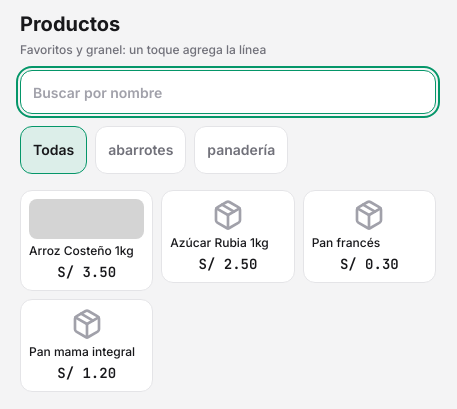
ProductCatalogScreen › matches names case-insensitively and shows the empty state without tearing the layout
Expected: the number of buttons with test id "product-tile" is 4, [20,190,153,291]; [161,190,295,283]; [303,190,436,283]; [20,299,153,392]
Type "PAN" into the search field named "Buscar producto" at [228, 92], box [20,70,436,114]
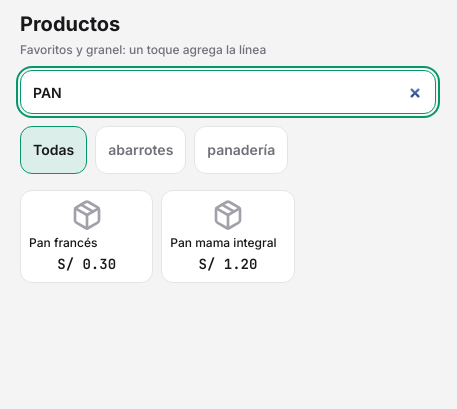
Now the number of buttons with test id "product-tile" is 2, box [20,190,153,283]; [161,190,295,283]
Replace the text in the search field named "Buscar producto" with " Destructor de galletas" at [228, 92], box [20,70,436,114]
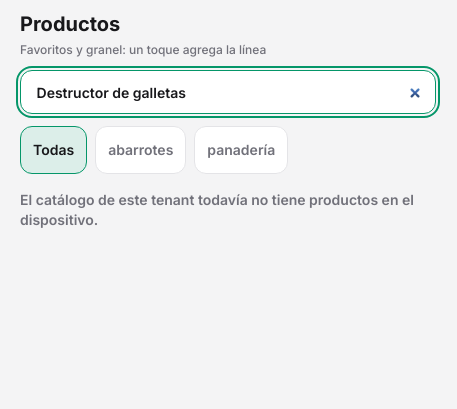
Now the message "El catálogo de este tenant todavía no tiene productos en el dispositivo." is shown, box [20,190,436,230]
